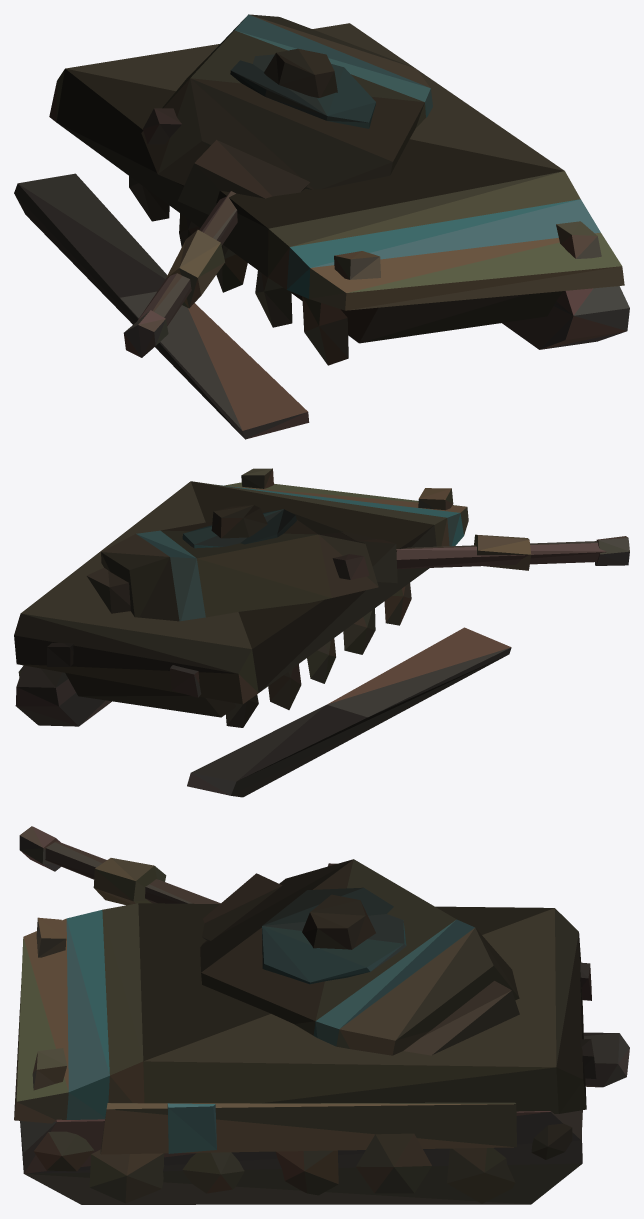
File: army_tank_wreck.glb
The picture shows the model from 3 angles, top to bottom: view 1: azimuth 30°, elevation 25°; view 2: azimuth 150°, elevation 25°; view 3: azimuth 270°, elevation 25°; orthographic projection. The views are drawn at different scales.
Parts seen in each view (by area): view 1: army_tank_wreck; view 2: army_tank_wreck; view 3: army_tank_wreck.
Boxes of the visible parts, x1,y1,x2,y2 form: army_tank_wreck: (14,14,629,439); army_tank_wreck: (14,468,629,797); army_tank_wreck: (14,826,629,1204).
Bounding box in the file's own units: 6.18 × 2.77 × 6.73.
